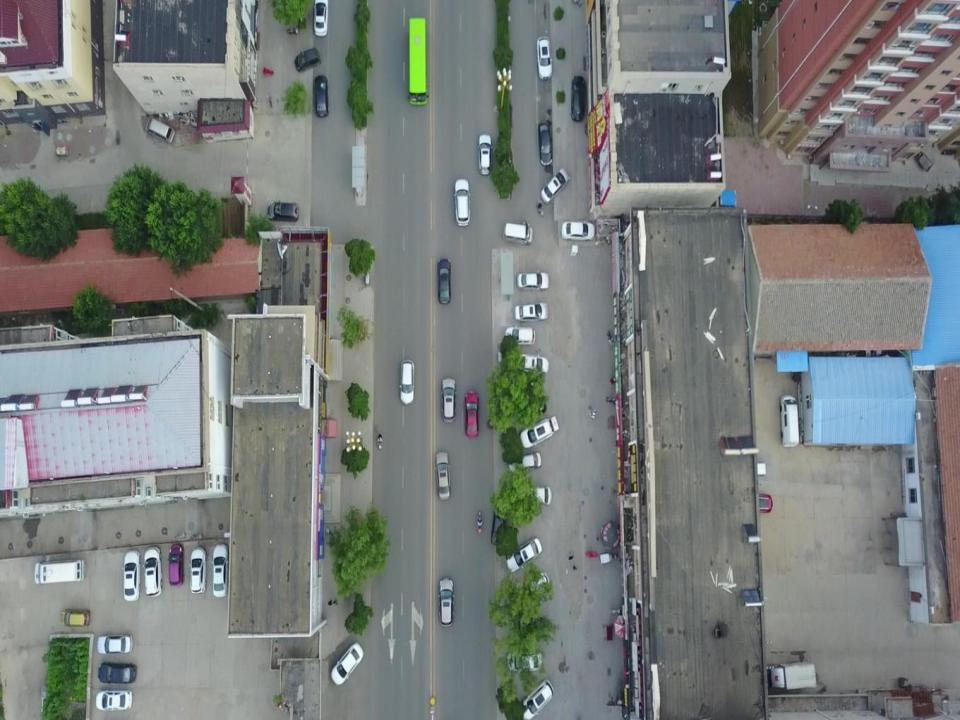bus: (404, 13, 430, 110)
car: (518, 679, 553, 720), (331, 641, 364, 684), (520, 416, 559, 449), (507, 538, 542, 574), (540, 167, 570, 205), (211, 543, 230, 597), (515, 572, 549, 602), (143, 546, 163, 597), (122, 550, 141, 600), (188, 546, 207, 593), (98, 661, 136, 684), (95, 689, 132, 711), (438, 577, 454, 625), (508, 452, 542, 474), (506, 652, 543, 672), (562, 219, 594, 242), (454, 179, 470, 225), (435, 451, 450, 500), (516, 353, 549, 375), (97, 633, 132, 653), (738, 493, 772, 513), (571, 75, 586, 120), (168, 543, 184, 585), (515, 302, 548, 322), (441, 378, 456, 422), (464, 390, 478, 437), (314, 75, 329, 118), (517, 270, 549, 290), (268, 200, 300, 220), (537, 37, 552, 79), (400, 360, 414, 404), (538, 122, 552, 165), (478, 135, 493, 175), (505, 324, 535, 344), (491, 507, 506, 547), (438, 258, 451, 304), (312, 0, 328, 36), (60, 609, 90, 628), (522, 486, 552, 504)
truck: (761, 662, 817, 689)
van: (34, 558, 85, 583), (779, 393, 799, 447), (503, 219, 533, 245), (295, 47, 322, 73), (146, 118, 174, 143)
